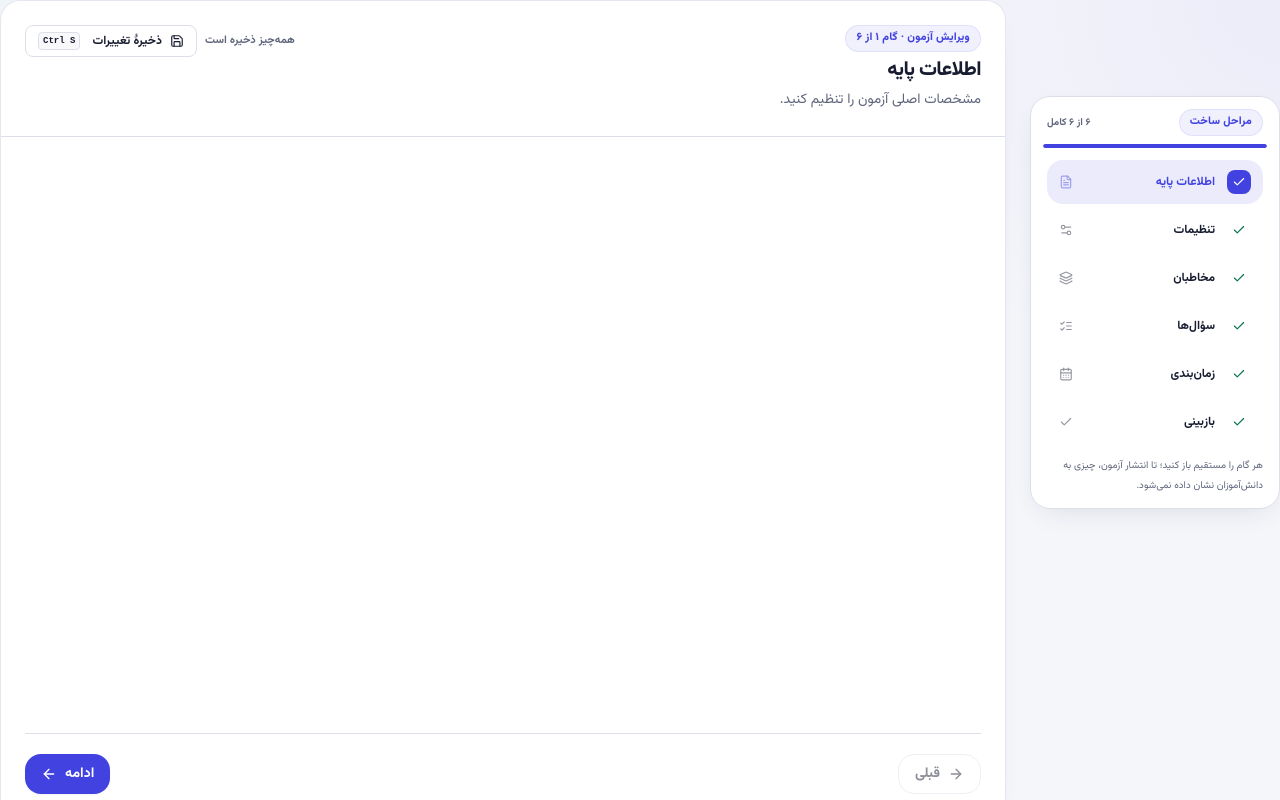
Test case: builder navigation › opens any step in one click, without walking the wizard backwards first
Click the button "زمان‌بندی".
click(1155, 374)  # box x1=1047 y1=352 x2=1263 y2=396
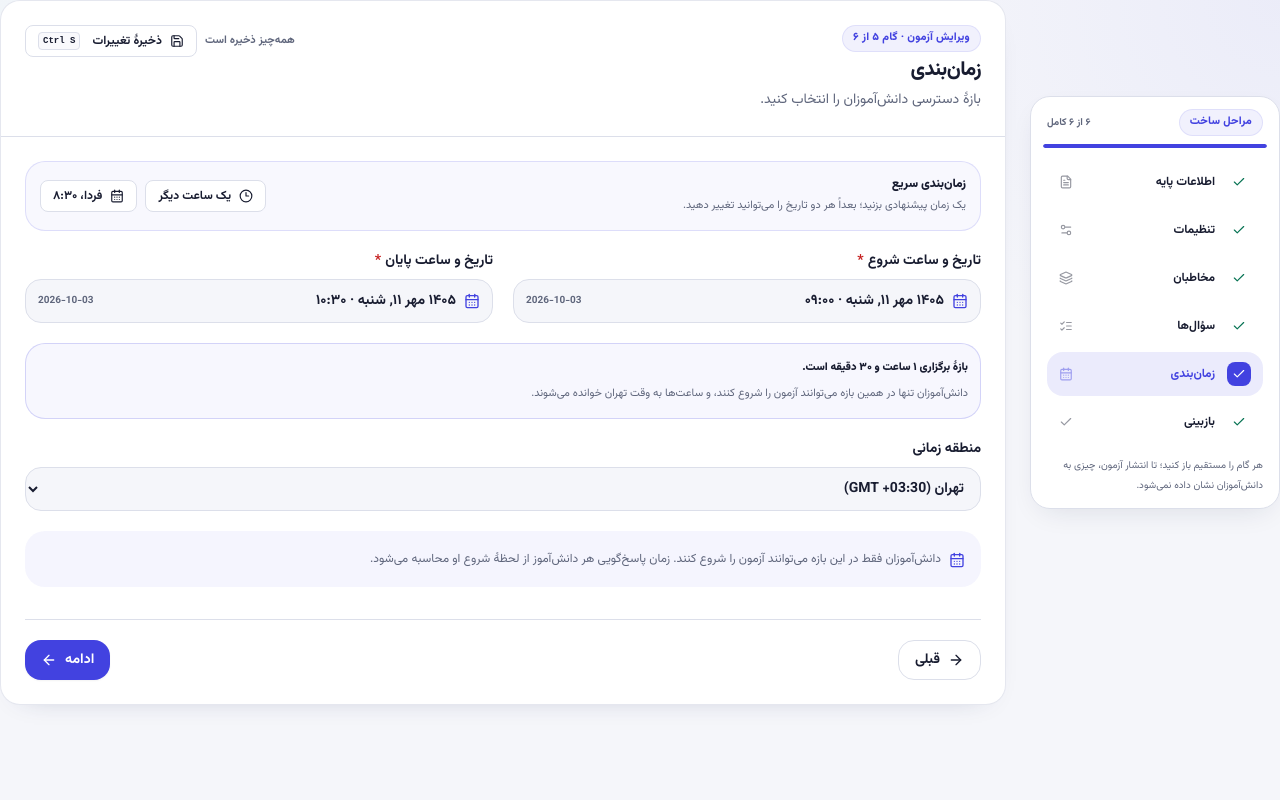
expect the text "هر گام را مستقیم باز کنید" is shown: met, box x1=1063 y1=458 x2=1263 y2=492
expect the text "تاریخ و ساعت شروع" is shown: met, box x1=868 y1=250 x2=981 y2=272
